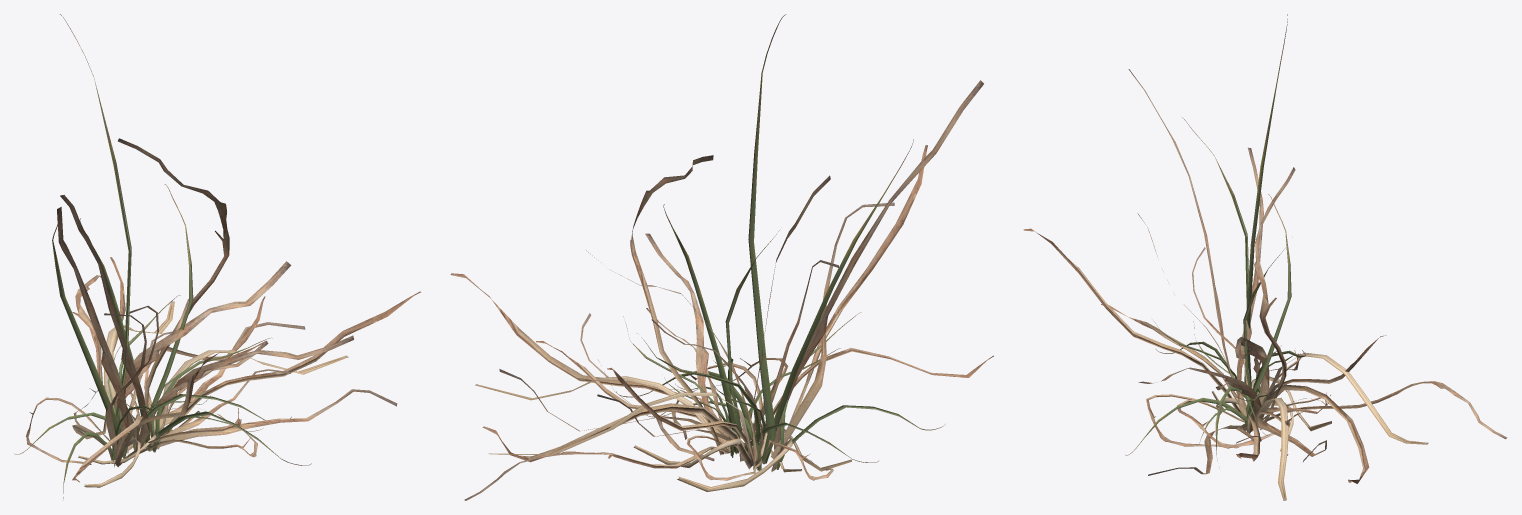
The model's file is grass_medium_02_b.glb.
3 renders of one model, left to right at view 1: azimuth 30°, elevation 25°; view 2: azimuth 150°, elevation 25°; view 3: azimuth 270°, elevation 25°, orthographic. The views are drawn at different scales.
Parts seen in each view (by area): view 1: grass_medium_02_b; view 2: grass_medium_02_b; view 3: grass_medium_02_b.
Part boxes in pixels (x1,y1,x2,y2): grass_medium_02_b: [14, 14, 420, 498]; grass_medium_02_b: [450, 14, 993, 500]; grass_medium_02_b: [1023, 14, 1507, 500].
Size of the model in its own units: 0.1791 by 0.1796 by 0.1993.
1 material, 1 textured.
